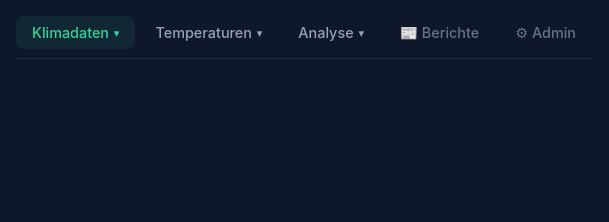
Scenario: NavBar › schließt Dropdown nach MouseLeave
Hover over the text "Klimadaten" at (76, 32), box left=16, top=16, right=136, bottom=49
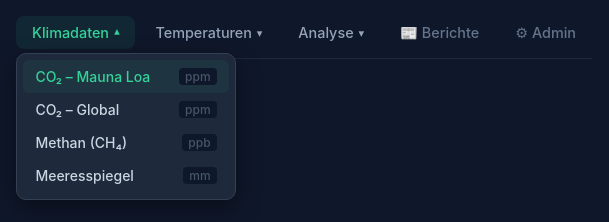
Now the text "CO₂ – Mauna Loa" is shown, box left=35, top=68, right=150, bottom=85
Move the pointer off the text "Klimadaten", box left=16, top=16, right=136, bottom=49
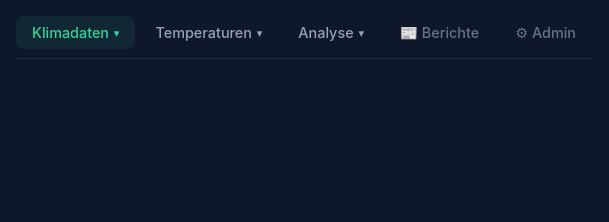
Now the button "CO₂ – Mauna Loa" is gone
